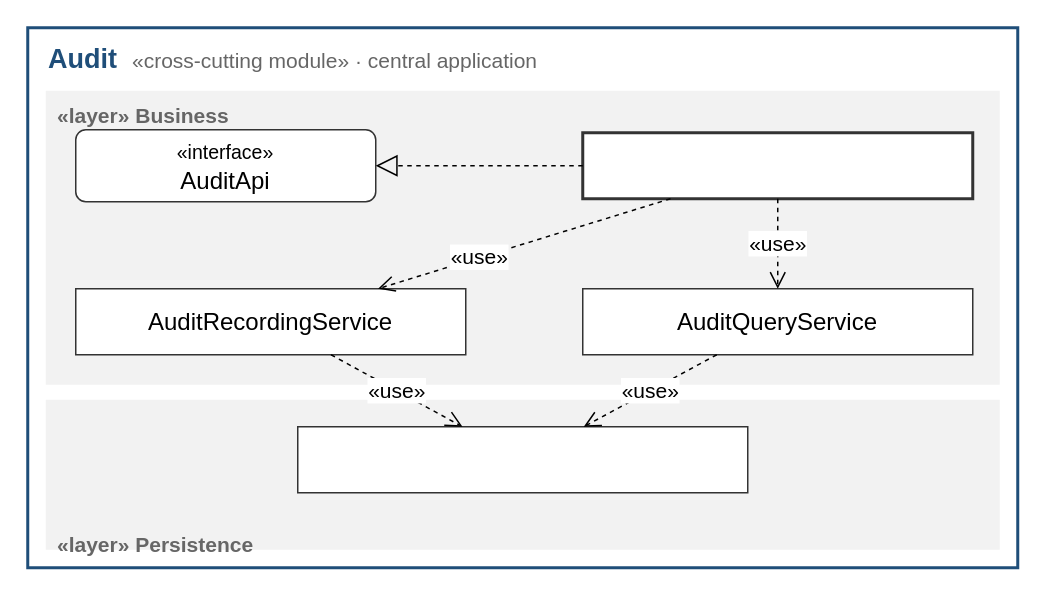
Some shapes in this 1044 by 594 pixel diagram are drawn without their labels. Here are the shapes that lost their labels. From the top down, the centre of each, then its label:
At (x=777, y=165): "AuditFacade".
At (x=522, y=459): "AuditLogRepo (append-only)".
